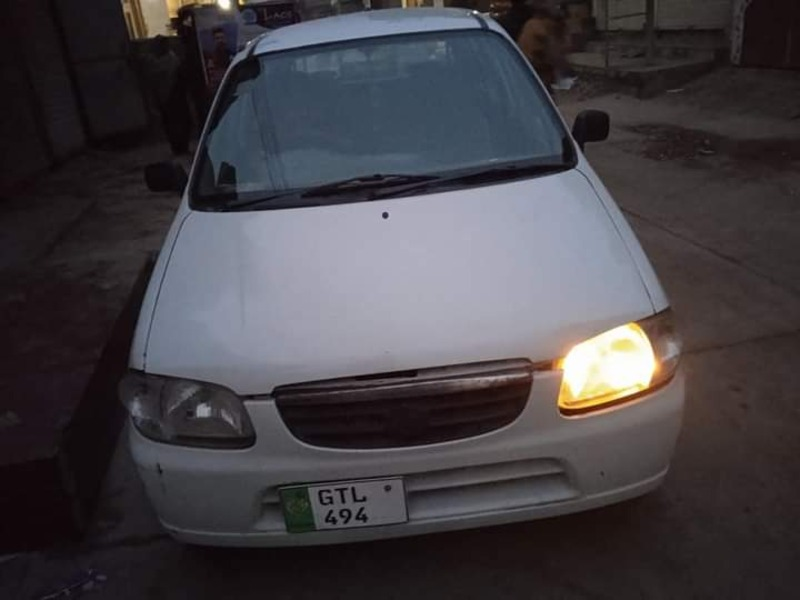License Plate: (275, 474, 413, 537)
